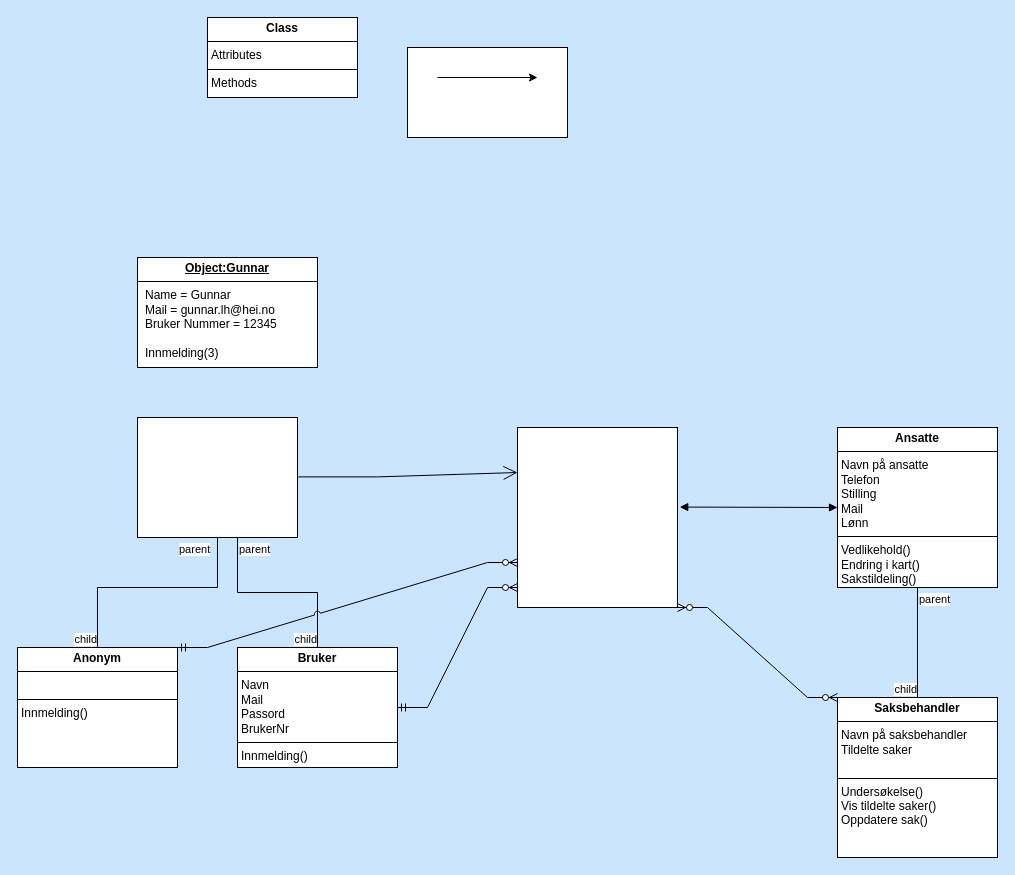
Some shapes in this 1015 by 875 pixel diagram are drawn without their labels. Each missing label, with the centre of its shape:
"Object:Type field1 = value1 field2 = value2 field3 = value3" belongs at point 487,92.
"Sak Navn Lokasjon Feil Beskrivelse Saksnummer Dato Oppdatere saksstatus()" belongs at point 597,517.
"Sender Bruker Navn Innmelding()" belongs at point 217,477.
